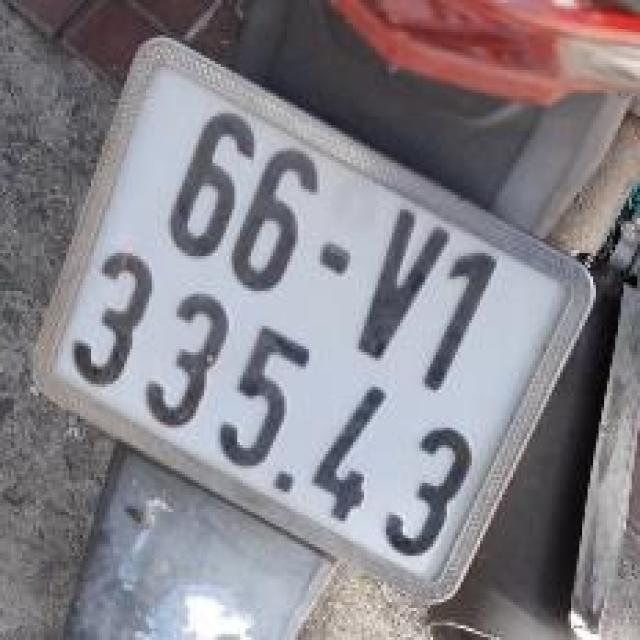1: (407, 228, 507, 401)
3: (362, 401, 486, 586), (53, 235, 170, 418), (126, 275, 243, 453)
4: (298, 367, 423, 532)
5: (213, 319, 324, 494)
6: (220, 132, 340, 324), (152, 101, 267, 275)
V: (344, 188, 467, 368)
